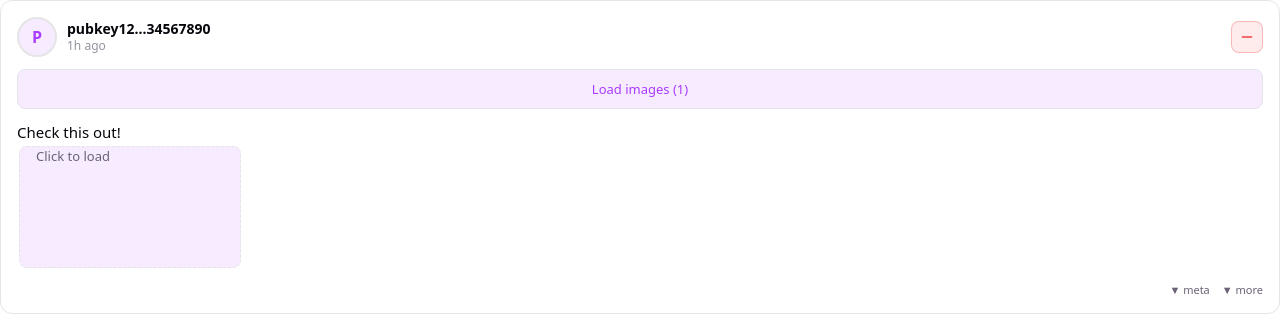
Test: NostrEventCard › should blur images classified as NSFW
Click the button "Click to load" at (130, 206), box top-left (19, 146), bottom-right (241, 268)
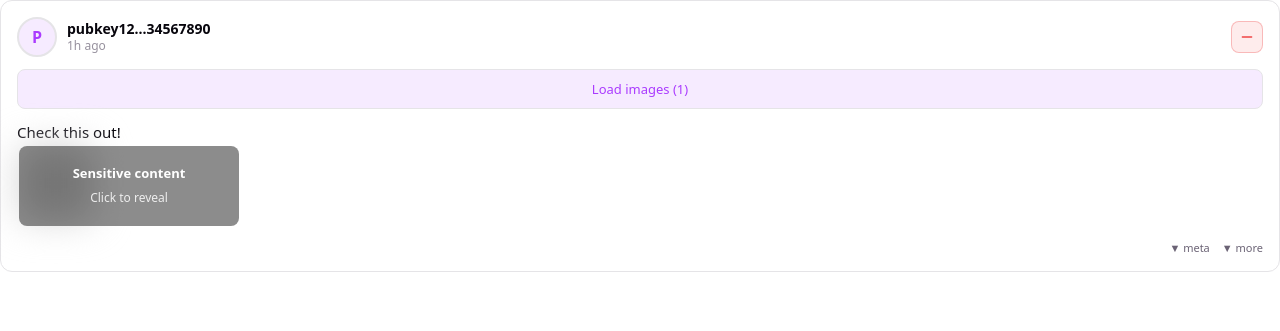
expect the text "Sensitive content" is shown: met, box top-left (73, 164), bottom-right (185, 183)
expect the text "Click to reveal" is shown: met, box top-left (90, 189), bottom-right (168, 207)
